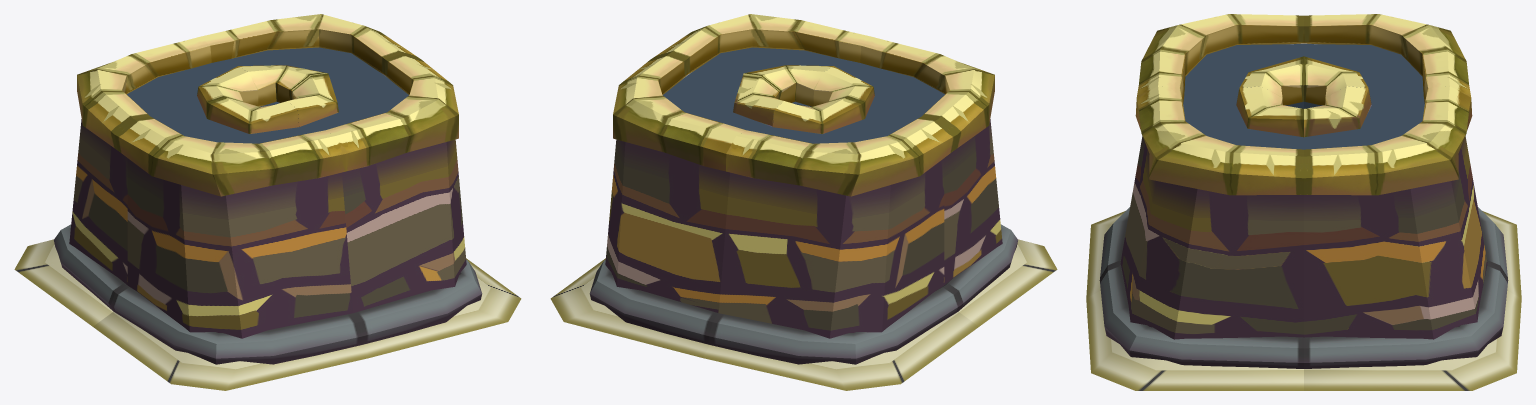
The model's file is Int_2x2_Island.fbx.
3 views of the same model, side by side, from view 1: azimuth 30°, elevation 25°; view 2: azimuth 150°, elevation 25°; view 3: azimuth 270°, elevation 25° (orthographic). The views are drawn at different scales.
Parts seen in each view (by area): view 1: Int_2x2_Island; view 2: Int_2x2_Island; view 3: Int_2x2_Island.
Boxes of the visible parts, <box> form: Int_2x2_Island: <box>14,14,521,390</box>; Int_2x2_Island: <box>550,14,1057,390</box>; Int_2x2_Island: <box>1086,14,1521,390</box>.
Bounding box in the file's own units: 2 × 1.09 × 2.
1 material, 1 textured.
